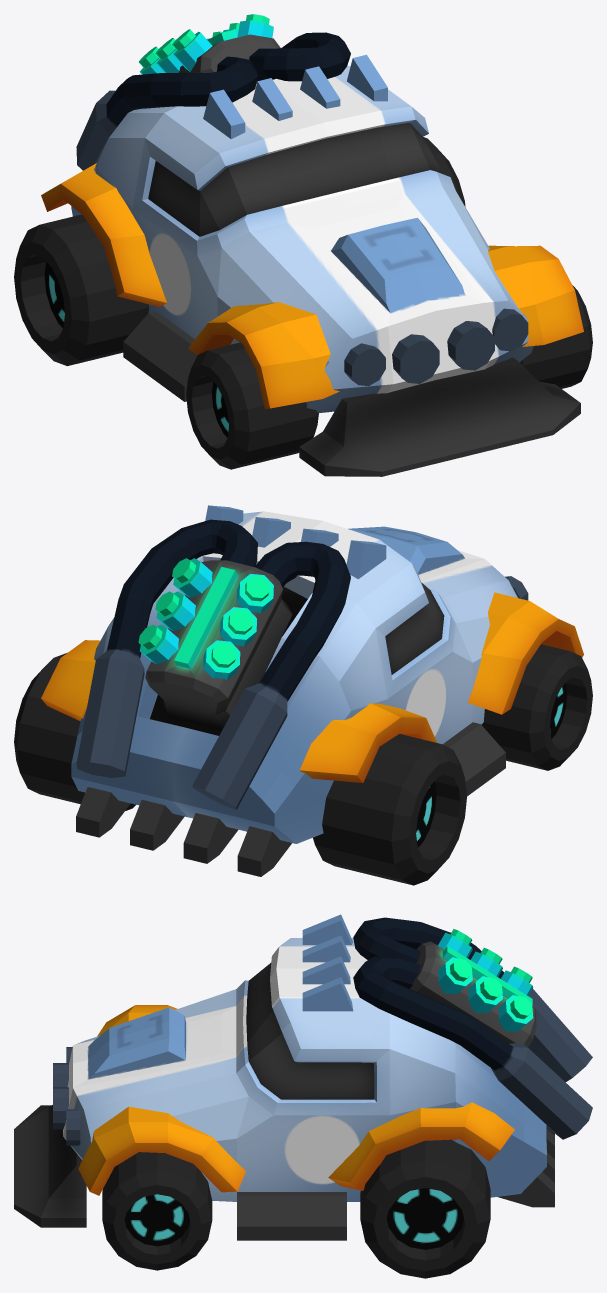
Rendered from tiny-racer-4.glb.
The picture shows the model from 3 angles, top to bottom: view 1: azimuth 30°, elevation 25°; view 2: azimuth 150°, elevation 25°; view 3: azimuth 270°, elevation 25°; orthographic projection. The views are drawn at different scales.
Parts seen in each view (by area): view 1: Cube.195, Cube.185, wheel_3, wheel_2, Circle.021, Circle.022, BezierCurve.008, Circle.020, Cube.186, Cylinder.224, BezierCurve.007, wheel_1 (+8 smaller); view 2: Cube.195, wheel_3, BezierCurve.008, BezierCurve.007, Cube.183, wheel_2, Circle.021, wheel_0, Circle.022, Circle.019, Cube.186, Cube.192 (+13 smaller); view 3: Cube.195, wheel_0, BezierCurve.007, wheel_1, Circle.020, Cube.185, Circle.019, BezierCurve.008, Cube.194, Cube.183, Cube.184, Cube.187 (+12 smaller).
Part boxes in pixels (x1,y1,x2,y2): Cube.195: (71, 66, 533, 413); Cube.185: (299, 357, 580, 476); wheel_3: (14, 214, 149, 366); wheel_2: (186, 342, 318, 469); Circle.021: (188, 302, 339, 409); Circle.022: (41, 163, 166, 306); BezierCurve.008: (76, 56, 257, 170); Circle.020: (488, 245, 583, 346); Cube.186: (123, 311, 197, 401); Cylinder.224: (392, 321, 494, 383); BezierCurve.007: (249, 32, 350, 81); wheel_1: (520, 285, 592, 388); Cube.195: (71, 511, 518, 843); wheel_3: (313, 734, 466, 885); BezierCurve.008: (192, 541, 350, 809); BezierCurve.007: (76, 519, 257, 777); Cube.183: (145, 560, 292, 730); wheel_2: (481, 644, 592, 770); Circle.021: (468, 592, 583, 714); wheel_0: (14, 652, 135, 810); Circle.022: (299, 703, 436, 782); Circle.019: (41, 640, 99, 721); Cube.186: (442, 722, 505, 796); Cube.192: (183, 813, 238, 863); Cube.195: (63, 938, 546, 1201); wheel_0: (360, 1139, 490, 1278); BezierCurve.007: (353, 956, 592, 1139); wheel_1: (102, 1152, 212, 1270); Circle.020: (78, 1106, 245, 1195); Cube.185: (14, 1105, 86, 1227); Circle.019: (328, 1102, 514, 1190); BezierCurve.008: (353, 917, 592, 1082); Cube.194: (237, 1192, 346, 1240); Cube.183: (409, 941, 536, 1047); Cube.184: (302, 977, 353, 1011); Cube.187: (498, 1172, 554, 1207).
Size of the model in its own units: 1.01 by 0.6819 by 1.42.
1 material, 1 textured.
